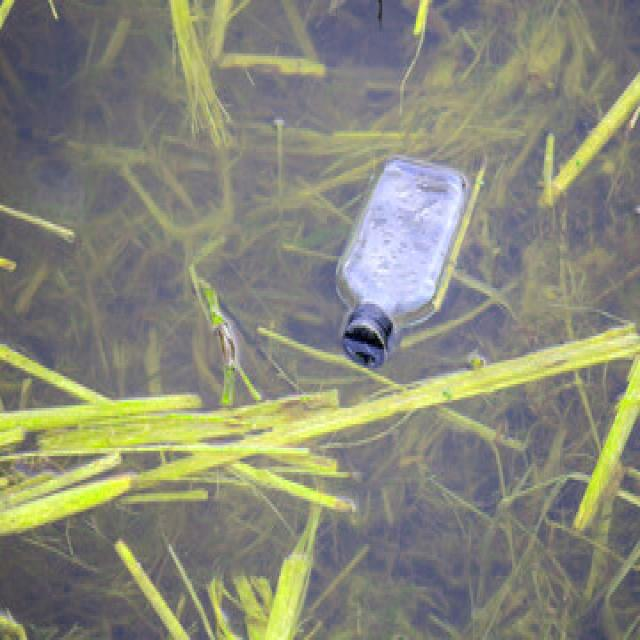Glass: (316, 158, 476, 371)
